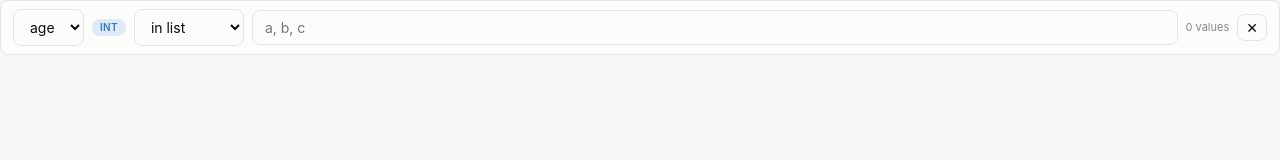
Test: ConditionRow › splits a comma list input into trimmed entries and shows the parsed chip count
Type "1, 2, 3" into the field with placeholder "a, b, c" at (715, 28), box [252,10,1178,45]
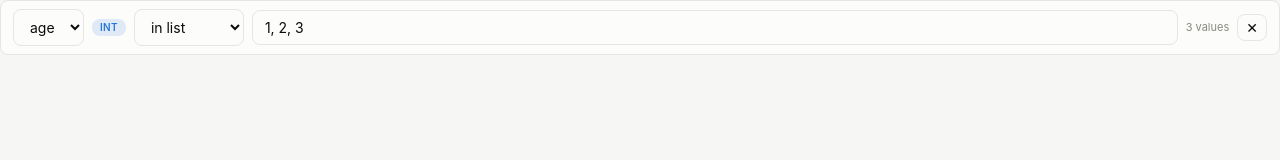
Expected: the text with class "chip-count" reads "3 values", [1186,19,1229,36]
